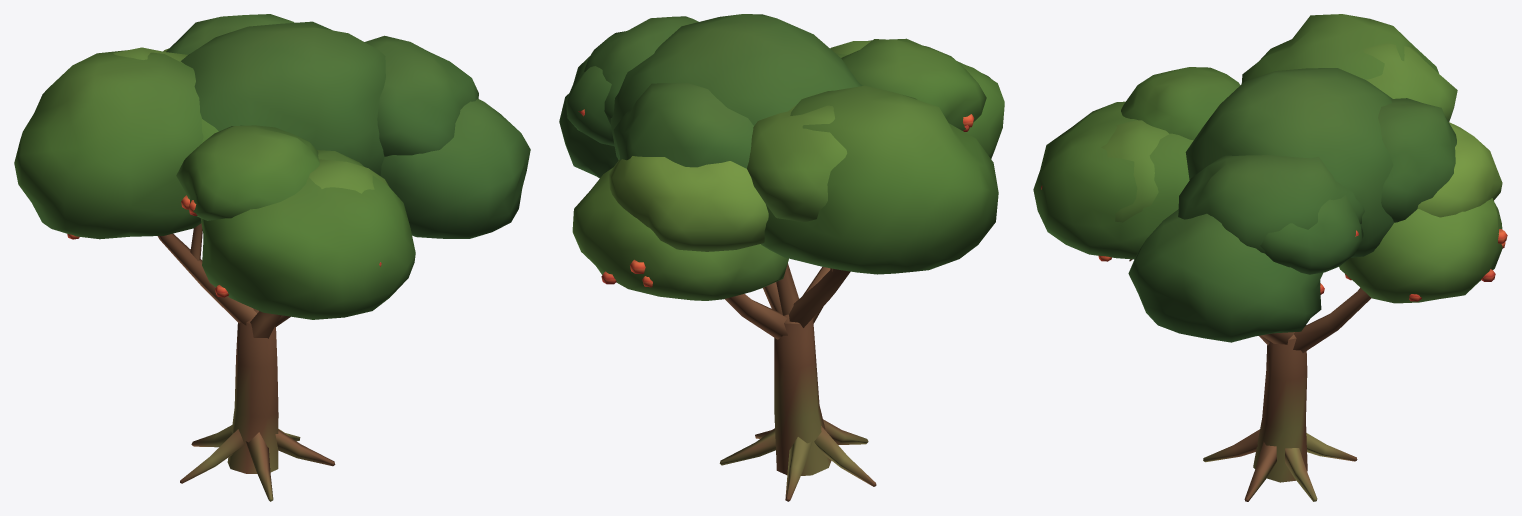
The model's file is apple_tree_mature_b.glb.
3 views of the same model, side by side, from view 1: azimuth 30°, elevation 25°; view 2: azimuth 150°, elevation 25°; view 3: azimuth 270°, elevation 25° (orthographic). The views are drawn at different scales.
Parts seen in each view (by area): view 1: orchard_apple_tree_mature_b_Canopy, orchard_apple_tree_mature_b_Trunk; view 2: orchard_apple_tree_mature_b_Canopy, orchard_apple_tree_mature_b_Trunk, orchard_apple_tree_mature_b_Fruit; view 3: orchard_apple_tree_mature_b_Canopy, orchard_apple_tree_mature_b_Trunk.
Boxes of the visible parts, x1,y1,x2,y2 form: orchard_apple_tree_mature_b_Canopy: (14,14,530,319); orchard_apple_tree_mature_b_Trunk: (157,223,335,501); orchard_apple_tree_mature_b_Canopy: (559,14,1004,300); orchard_apple_tree_mature_b_Trunk: (719,263,876,501); orchard_apple_tree_mature_b_Fruit: (578,109,974,287); orchard_apple_tree_mature_b_Canopy: (1033,14,1502,342); orchard_apple_tree_mature_b_Trunk: (1129,259,1371,501).
Size of the model in its own units: 5.17 by 4.65 by 4.85.
